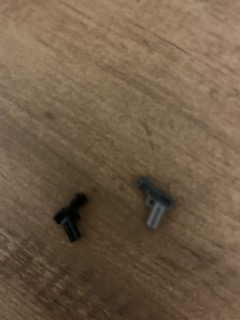pistol: (132, 174, 177, 231), (54, 191, 90, 246)
